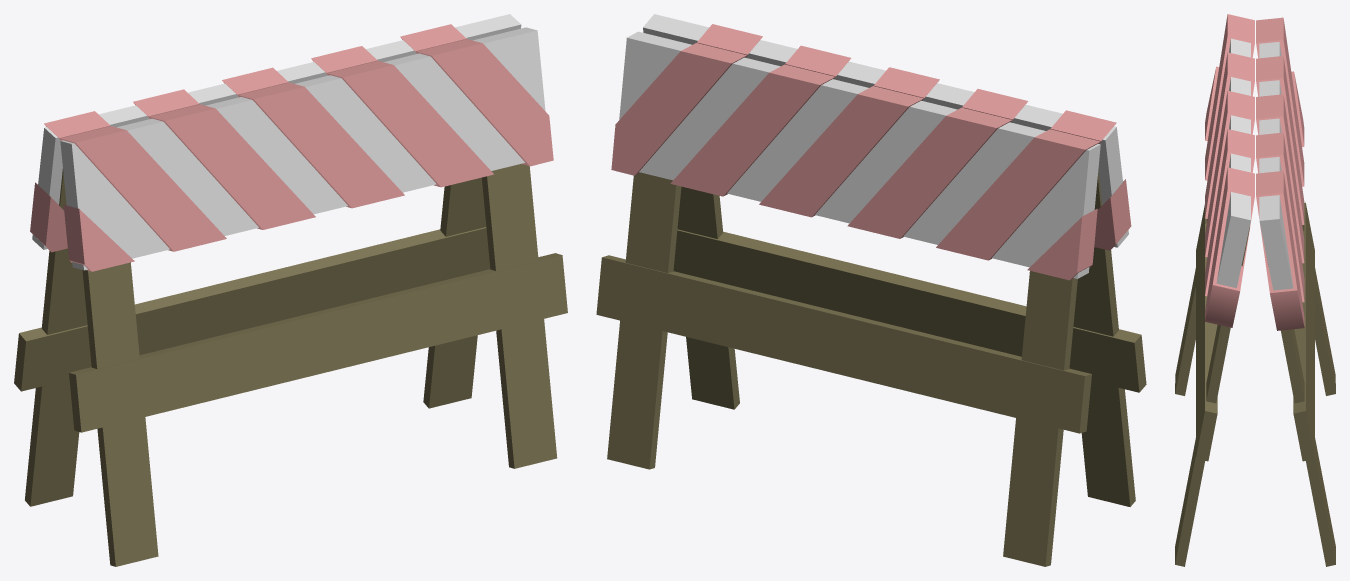
File: red_stripe_sign.fbx
3 renders of one model, left to right at view 1: azimuth 30°, elevation 25°; view 2: azimuth 150°, elevation 25°; view 3: azimuth 270°, elevation 25°, orthographic. The views are drawn at different scales.
Parts seen in each view (by area): view 1: pCube4, pCube12, pCube5; view 2: pCube4, pCube12, pCube5; view 3: pCube12, pCube4, pCube5.
Boxes of the visible parts, bbox=[...] form: pCube4: bbox=[14, 164, 567, 566]; pCube12: bbox=[30, 24, 553, 271]; pCube5: bbox=[32, 14, 545, 270]; pCube4: bbox=[596, 170, 1146, 566]; pCube12: bbox=[611, 24, 1131, 280]; pCube5: bbox=[619, 14, 1128, 278]; pCube12: bbox=[1205, 14, 1304, 330]; pCube4: bbox=[1175, 202, 1335, 566]; pCube5: bbox=[1216, 38, 1293, 290].
Size of the model in its own units: 107 by 85.84 by 34.85.
